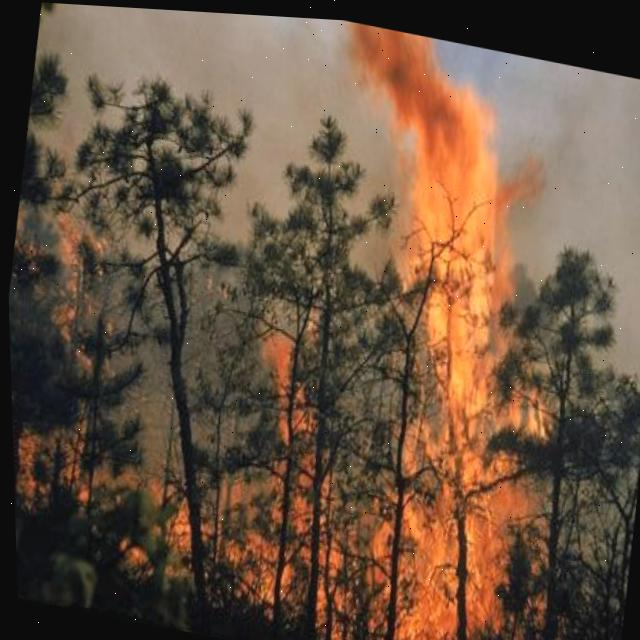fire: (141, 18, 623, 640)
smoke: (16, 2, 640, 335), (37, 3, 410, 265), (434, 33, 640, 373)
